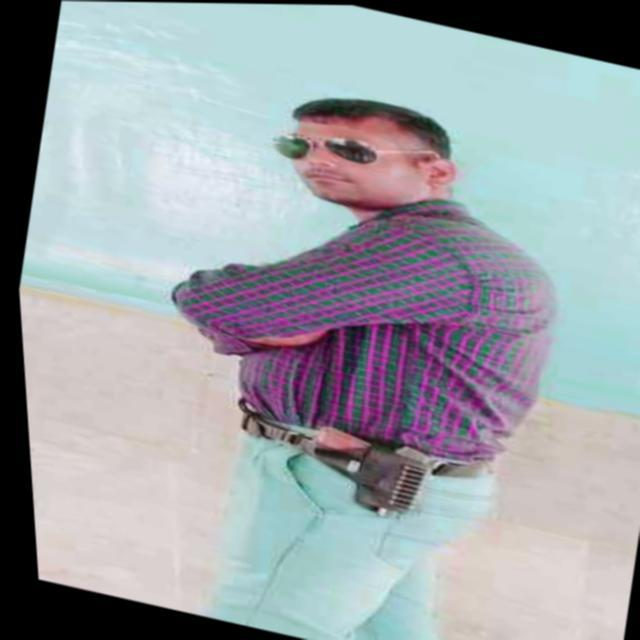weapon: (281, 413, 444, 532)
